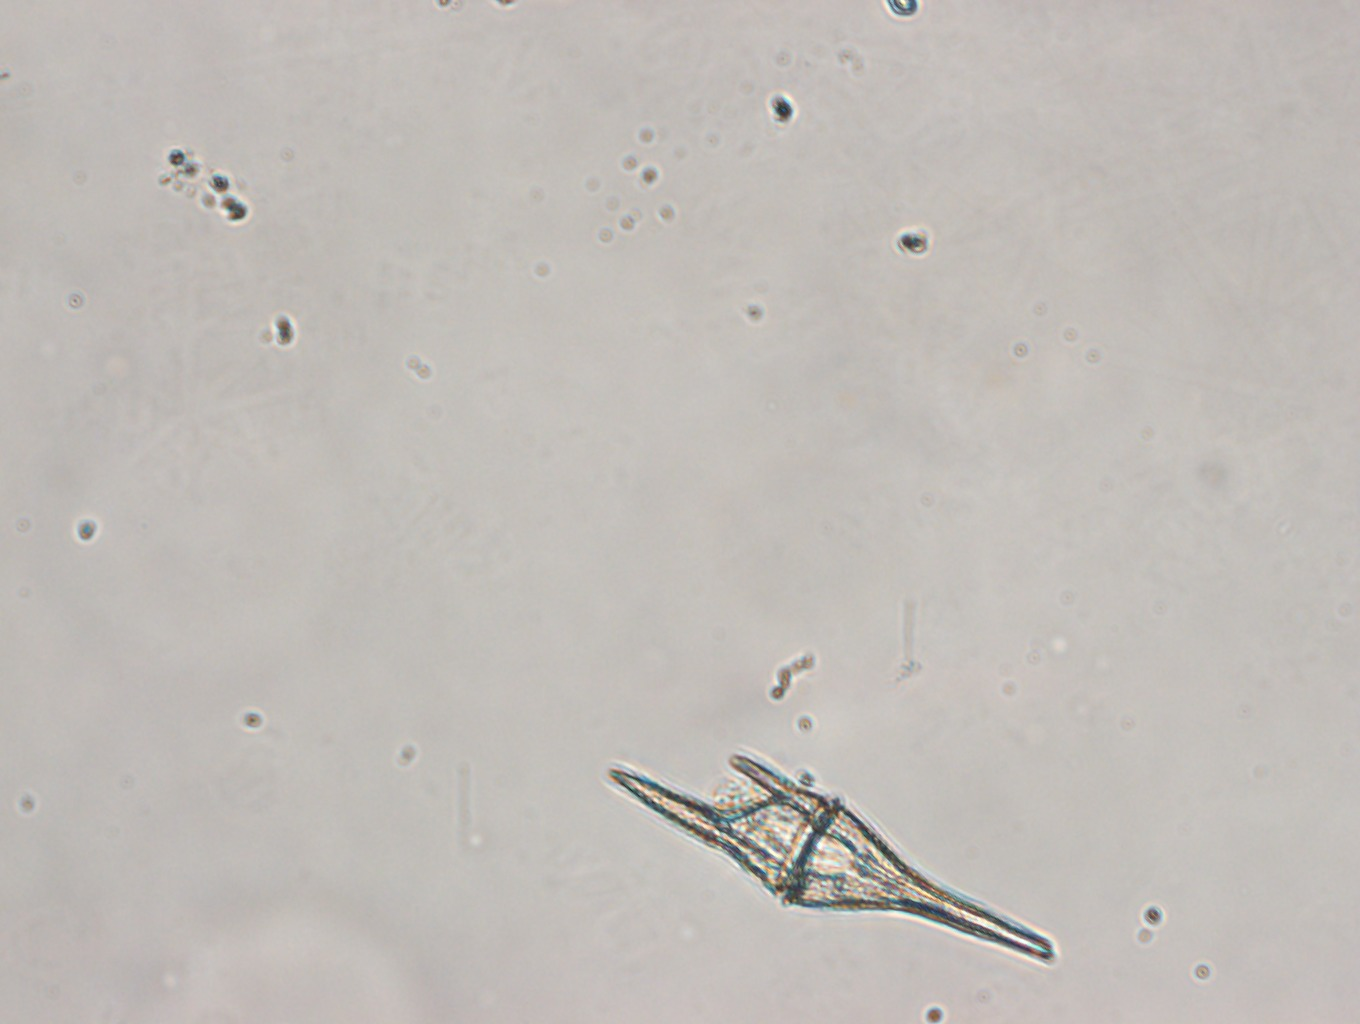ceratium furca: (605, 744, 1060, 964)
